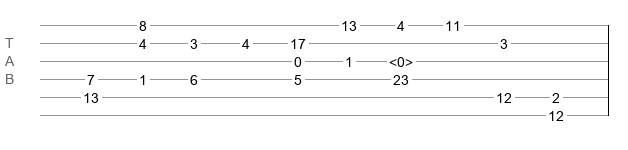0: (294, 54, 302, 64)
1: (139, 72, 147, 82), (345, 54, 353, 64)
11: (445, 18, 461, 28)
12: (496, 90, 512, 100), (548, 108, 564, 118)
13: (83, 90, 99, 100), (341, 18, 357, 28)
17: (290, 36, 306, 46)
2: (552, 90, 560, 100)
23: (393, 72, 409, 82)
3: (190, 36, 198, 46), (500, 36, 508, 46)
4: (139, 36, 147, 46), (242, 36, 250, 46), (397, 18, 405, 28)
5: (294, 72, 302, 82)
6: (190, 72, 198, 82)
7: (87, 72, 95, 82)
8: (139, 18, 147, 28)
harmonic: (389, 54, 413, 64)
